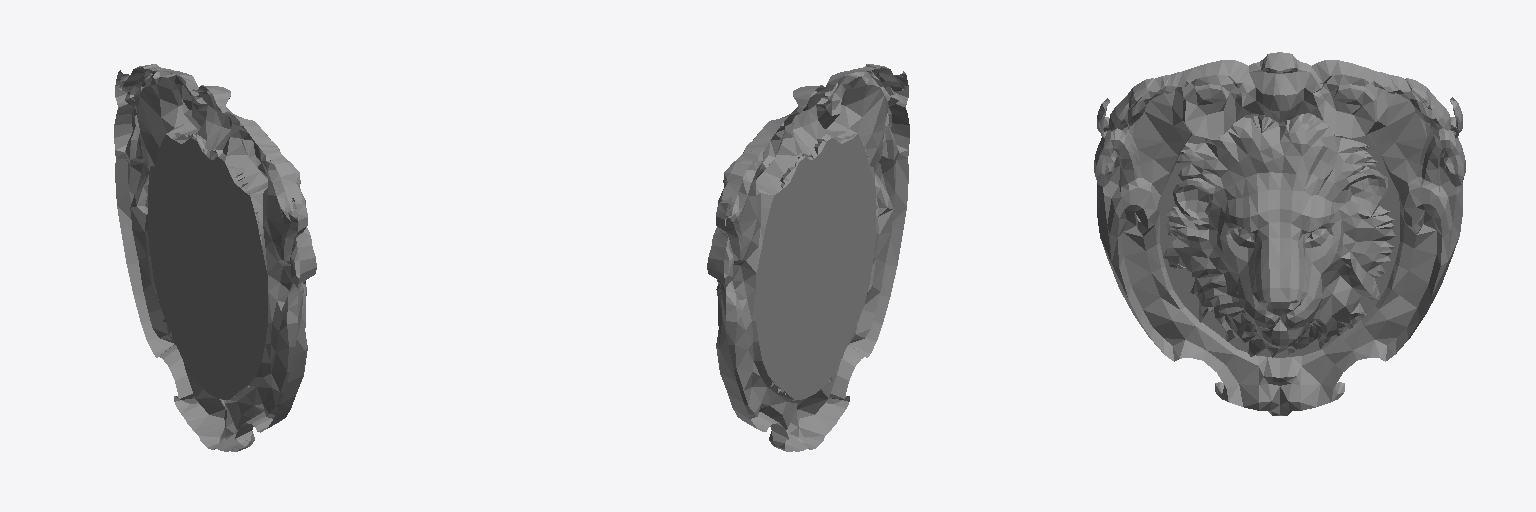
File: sponza_lion.obj
3 views of the same model, side by side, from view 1: azimuth 30°, elevation 25°; view 2: azimuth 150°, elevation 25°; view 3: azimuth 270°, elevation 25° (orthographic).
Visible parts, largest first — view 1: sponza_378; view 2: sponza_378; view 3: sponza_378.
Part boxes in pixels (x1,y1,x2,y2): sponza_378: (114,64,316,451); sponza_378: (707,64,909,451); sponza_378: (1094,52,1465,415).
Bounding box in the file's own units: 75.82 × 266 × 249.